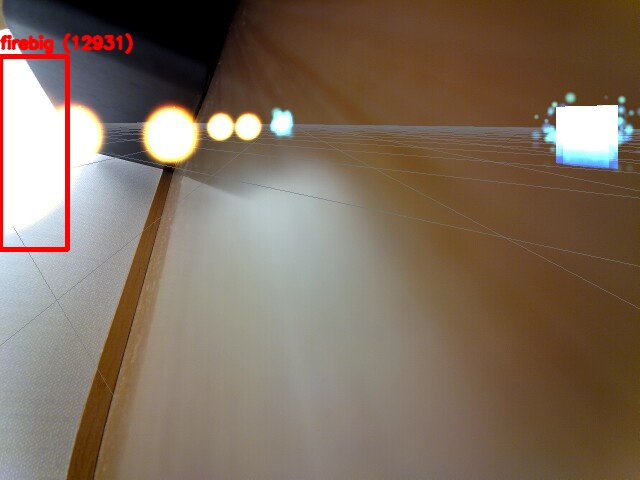firebig: (0, 56, 67, 249)
